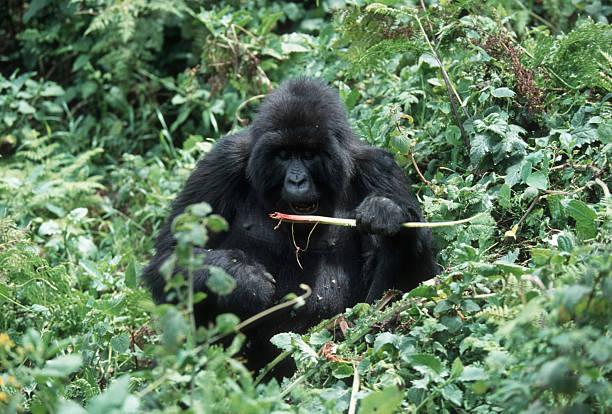goriile_montagne: (156, 61, 451, 330)
